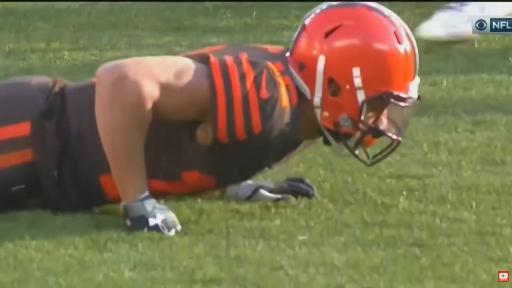Helmet: (288, 3, 419, 166)
Jersey: (146, 46, 307, 196)
Player: (0, 3, 419, 234), (415, 2, 511, 41)
